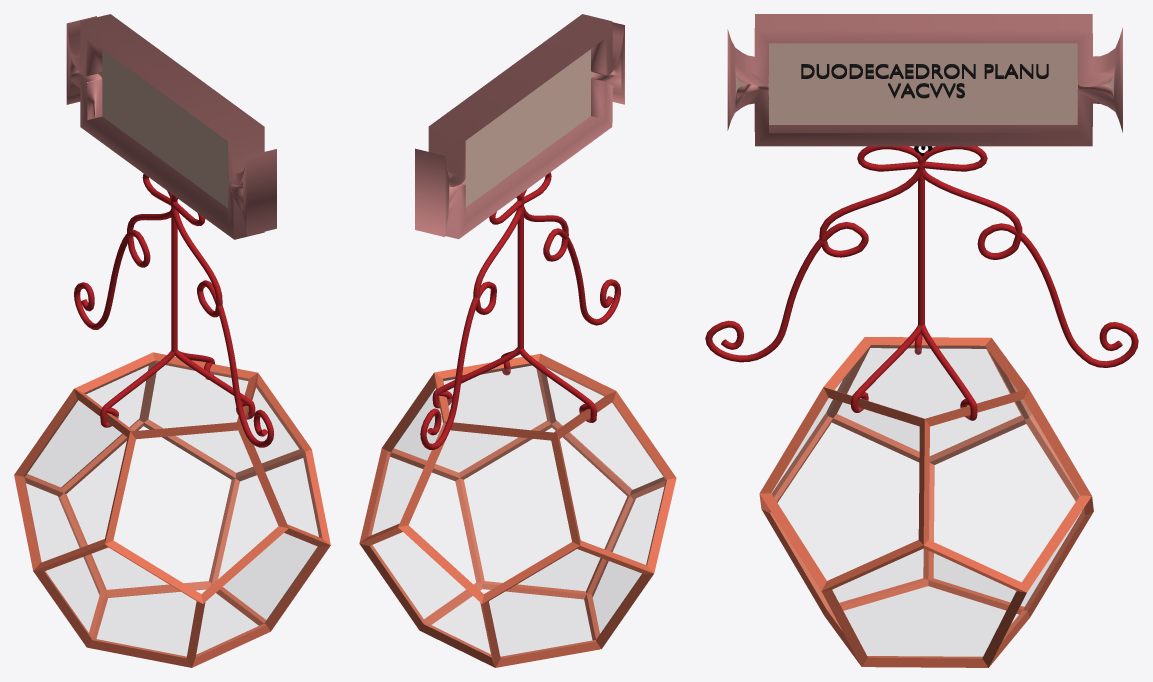
Rendered from Davinci_obra1.glb.
The picture shows the model from 3 angles, left to right: view 1: azimuth 30°, elevation 25°; view 2: azimuth 150°, elevation 25°; view 3: azimuth 270°, elevation 25°; orthographic projection. The views are drawn at different scales.
Parts seen in each view (by area): view 1: Solid.002, Solid.001, Cube, Cube.001, BézierCurve; view 2: Solid.002, Solid.001, Cube, Cube.001, BézierCurve; view 3: Solid.002, Solid.001, Cube.001, Cube, BézierCurve, Text.
Boxes of the visible parts, x1,y1,x2,y2 form: Solid.002: (26, 365, 318, 656); Solid.001: (14, 352, 330, 667); Cube: (66, 14, 276, 239); Cube.001: (98, 49, 231, 207); BézierCurve: (74, 173, 273, 447); Solid.002: (371, 365, 664, 656); Solid.001: (359, 353, 676, 667); Cube: (415, 14, 624, 239); Cube.001: (462, 49, 594, 207); BézierCurve: (420, 172, 620, 449); Solid.002: (772, 348, 1081, 656); Solid.001: (759, 337, 1093, 667); Cube.001: (735, 43, 1113, 124); Cube: (727, 14, 1122, 146); BézierCurve: (705, 146, 1138, 420); Text: (801, 64, 1048, 98).
Size of the model in its own units: 2.03 by 3.9 by 2.52.
